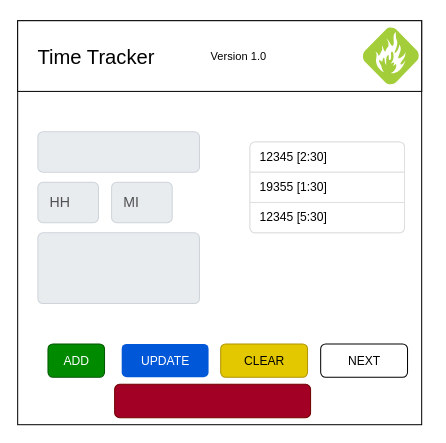
Image size: 446x443. Some labels were removed from this diagram. Here are the shapes that lost their labels. From the top down, the box of each, then its label:
(37, 131, 199, 172): Task#
(37, 232, 199, 304): Comment
(114, 383, 311, 418): CALCULATE
